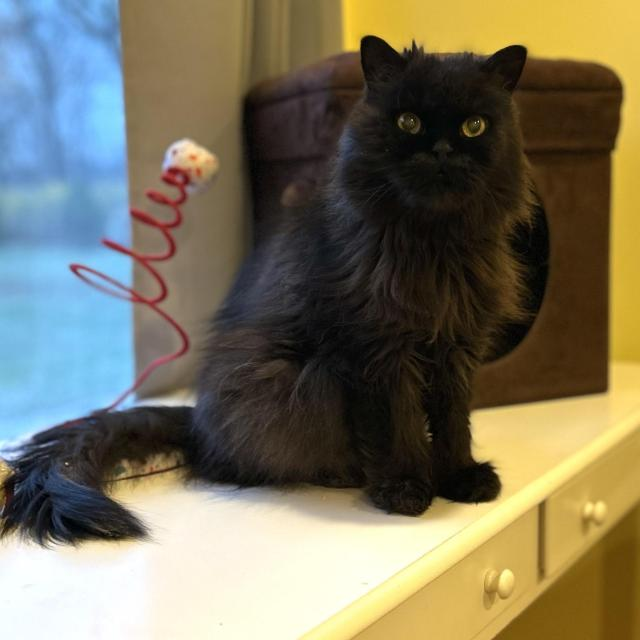persian_cat: (332, 30, 540, 230)
